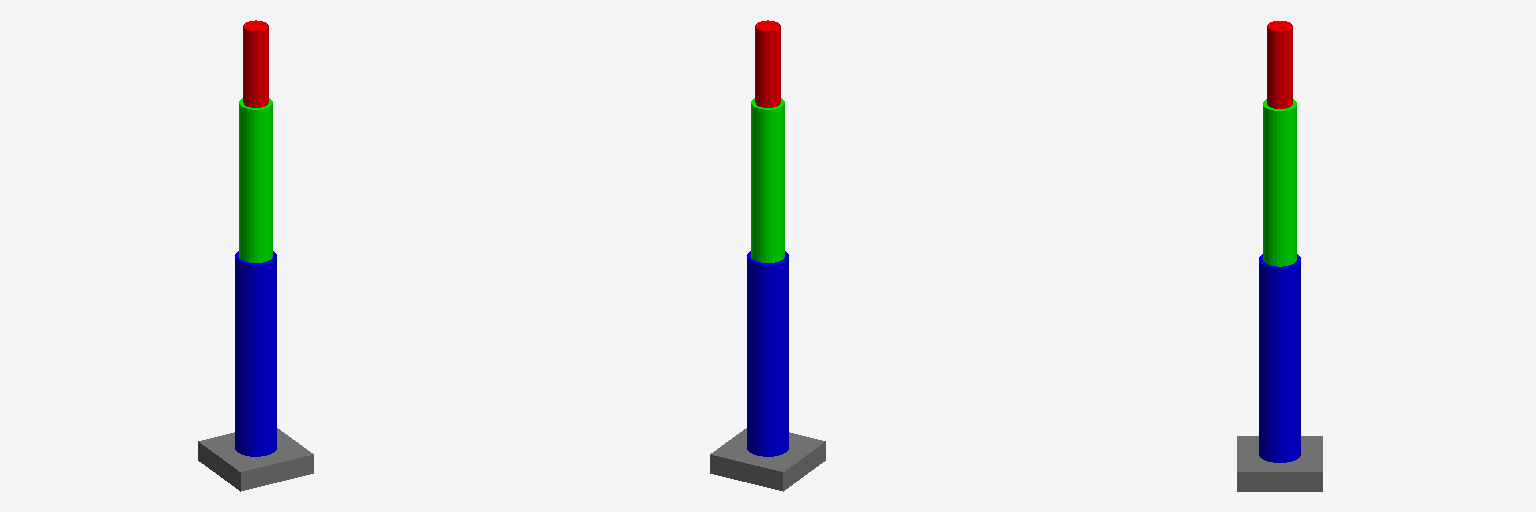
URDF robot description (simple_arm):
<?xml version="1.0"?>
<robot name="simple_arm">
  <!-- A simple 3-DOF robot arm for testing -->

  <!-- Base Link -->
  <link name="base_link">
    <visual>
      <geometry>
        <box size="0.2 0.2 0.05"/>
      </geometry>
      <material name="gray">
        <color rgba="0.5 0.5 0.5 1"/>
      </material>
    </visual>
    <collision>
      <geometry>
        <box size="0.2 0.2 0.05"/>
      </geometry>
    </collision>
    <inertial>
      <mass value="2.0"/>
      <origin xyz="0 0 0" rpy="0 0 0"/>
      <inertia ixx="0.02" ixy="0" ixz="0" iyy="0.02" iyz="0" izz="0.04"/>
    </inertial>
  </link>

  <!-- Link 1 -->
  <link name="link1">
    <visual>
      <origin xyz="0 0 0.25" rpy="0 0 0"/>
      <geometry>
        <cylinder radius="0.05" length="0.5"/>
      </geometry>
      <material name="blue">
        <color rgba="0 0 1 1"/>
      </material>
    </visual>
    <collision>
      <origin xyz="0 0 0.25" rpy="0 0 0"/>
      <geometry>
        <cylinder radius="0.05" length="0.5"/>
      </geometry>
    </collision>
    <inertial>
      <mass value="1.0"/>
      <origin xyz="0 0 0.25" rpy="0 0 0"/>
      <inertia ixx="0.021" ixy="0" ixz="0" iyy="0.021" iyz="0" izz="0.0025"/>
    </inertial>
  </link>

  <!-- Link 2 -->
  <link name="link2">
    <visual>
      <origin xyz="0 0 0.2" rpy="0 0 0"/>
      <geometry>
        <cylinder radius="0.04" length="0.4"/>
      </geometry>
      <material name="green">
        <color rgba="0 1 0 1"/>
      </material>
    </visual>
    <collision>
      <origin xyz="0 0 0.2" rpy="0 0 0"/>
      <geometry>
        <cylinder radius="0.04" length="0.4"/>
      </geometry>
    </collision>
    <inertial>
      <mass value="0.8"/>
      <origin xyz="0 0 0.2" rpy="0 0 0"/>
      <inertia ixx="0.011" ixy="0" ixz="0" iyy="0.011" iyz="0" izz="0.0013"/>
    </inertial>
  </link>

  <!-- Link 3 (End Effector) -->
  <link name="link3">
    <visual>
      <origin xyz="0 0 0.1" rpy="0 0 0"/>
      <geometry>
        <cylinder radius="0.03" length="0.2"/>
      </geometry>
      <material name="red">
        <color rgba="1 0 0 1"/>
      </material>
    </visual>
    <collision>
      <origin xyz="0 0 0.1" rpy="0 0 0"/>
      <geometry>
        <cylinder radius="0.03" length="0.2"/>
      </geometry>
    </collision>
    <inertial>
      <mass value="0.5"/>
      <origin xyz="0 0 0.1" rpy="0 0 0"/>
      <inertia ixx="0.0018" ixy="0" ixz="0" iyy="0.0018" iyz="0" izz="0.00045"/>
    </inertial>
  </link>

  <!-- Joint 1: Base rotation -->
  <joint name="joint1" type="revolute">
    <parent link="base_link"/>
    <child link="link1"/>
    <origin xyz="0 0 0.025" rpy="0 0 0"/>
    <axis xyz="0 0 1"/>
    <limit lower="-3.14159" upper="3.14159" effort="50" velocity="3.14159"/>
    <dynamics damping="0.1" friction="0.01"/>
  </joint>

  <!-- Joint 2: Shoulder -->
  <joint name="joint2" type="revolute">
    <parent link="link1"/>
    <child link="link2"/>
    <origin xyz="0 0 0.5" rpy="0 0 0"/>
    <axis xyz="0 1 0"/>
    <limit lower="-1.5708" upper="1.5708" effort="30" velocity="3.14159"/>
    <dynamics damping="0.1" friction="0.01"/>
  </joint>

  <!-- Joint 3: Elbow -->
  <joint name="joint3" type="revolute">
    <parent link="link2"/>
    <child link="link3"/>
    <origin xyz="0 0 0.4" rpy="0 0 0"/>
    <axis xyz="0 1 0"/>
    <limit lower="-2.3562" upper="2.3562" effort="20" velocity="3.14159"/>
    <dynamics damping="0.05" friction="0.01"/>
  </joint>

</robot>

--- Render facts (derived) ---
Views: 3 orthographic renders of the robot side by side, from view 1: azimuth 30°, elevation 25°; view 2: azimuth 150°, elevation 25°; view 3: azimuth 270°, elevation 25°.
Robot: simple_arm — 4 links, 3 joints (3 revolute); root link base_link; default pose: every joint at zero.
Links seen in each view (by area): view 1: link1, link2, base_link, link3; view 2: link1, link2, base_link, link3; view 3: link1, link2, base_link, link3.
Boxes of the visible links, bbox=[...] form: link1: bbox=[235, 251, 276, 456]; link2: bbox=[239, 98, 272, 262]; base_link: bbox=[198, 428, 313, 491]; link3: bbox=[243, 20, 268, 107]; link1: bbox=[747, 251, 788, 456]; link2: bbox=[751, 98, 784, 262]; base_link: bbox=[710, 428, 825, 491]; link3: bbox=[755, 20, 780, 107]; link1: bbox=[1259, 254, 1300, 462]; link2: bbox=[1263, 99, 1296, 266]; base_link: bbox=[1237, 436, 1322, 491]; link3: bbox=[1267, 21, 1292, 108].
Size in the robot's own frame: 0.2 by 0.2 by 1.15 metres.
Geometry: primitives only (box / cylinder / sphere), no mesh files.
